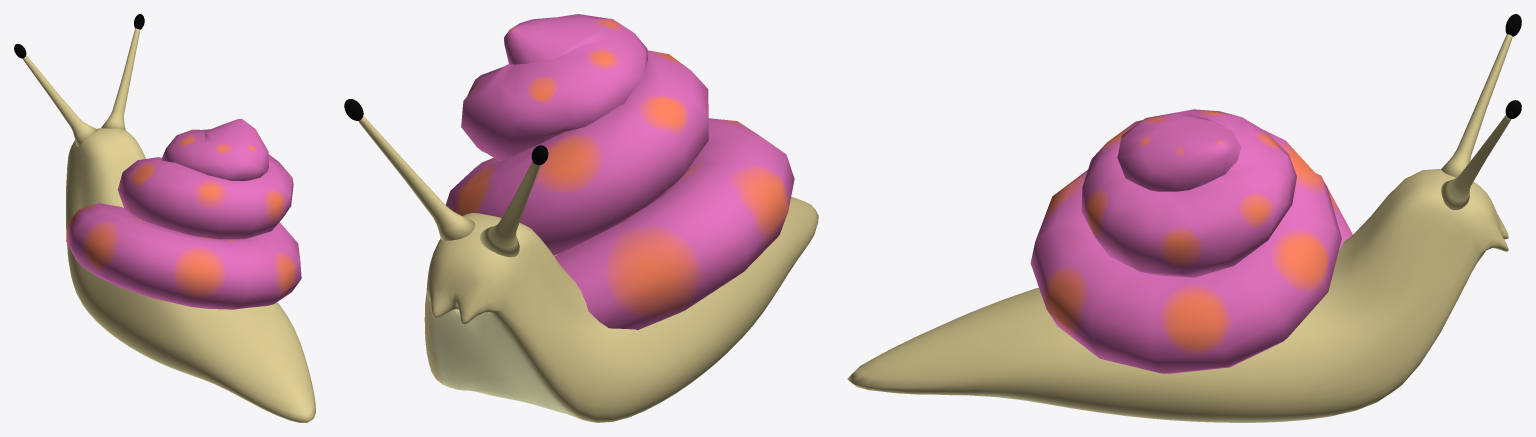
The model's file is snail.fbx.
The picture shows the model from 3 angles, left to right: view 1: azimuth 30°, elevation 25°; view 2: azimuth 150°, elevation 25°; view 3: azimuth 270°, elevation 25°; orthographic projection. The views are drawn at different scales.
Parts seen in each view (by area): view 1: Spiral.001, Roundcube, Sphere; view 2: Spiral.001, Roundcube, Sphere; view 3: Spiral.001, Roundcube, Sphere.
Part boxes in pixels (x1,y1,x2,y2): Spiral.001: (66, 119, 301, 309); Roundcube: (66, 128, 315, 422); Sphere: (14, 14, 144, 146); Spiral.001: (445, 14, 794, 330); Roundcube: (424, 197, 818, 422); Sphere: (344, 99, 548, 257); Spiral.001: (1030, 109, 1352, 373); Roundcube: (847, 169, 1508, 422); Sphere: (1441, 14, 1521, 210).
Size of the model in its own units: 112 by 124 by 229.
Materials: 3 (3 with a texture image).
